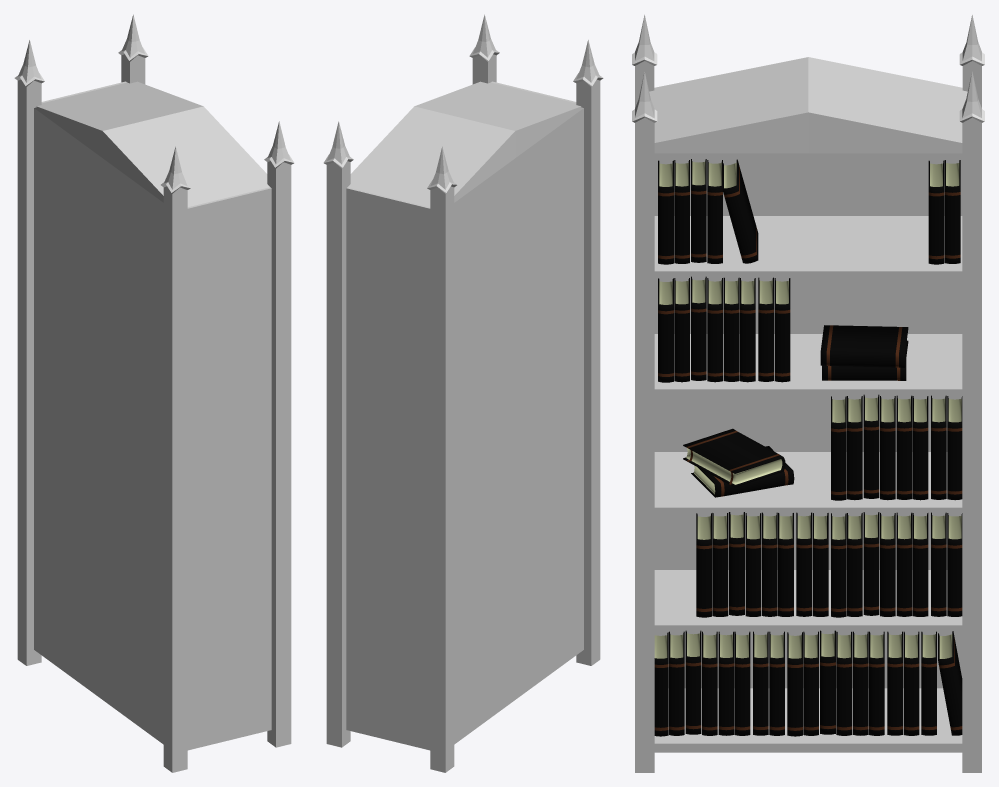
File: Bookself.fbx
3 views of the same model, side by side, from view 1: azimuth 30°, elevation 25°; view 2: azimuth 150°, elevation 25°; view 3: azimuth 270°, elevation 25° (orthographic). The views are drawn at different scales.
Parts seen in each view (by area): view 1: Bookshelf; view 2: Bookshelf; view 3: Bookshelf.
Boxes of the visible parts, left/top/right/bottom form: Bookshelf: left=14, top=14, right=294, bottom=772; Bookshelf: left=323, top=14, right=603, bottom=772; Bookshelf: left=632, top=15, right=984, bottom=772.
Bounding box in the file's own units: 48.71 × 235 × 108.
